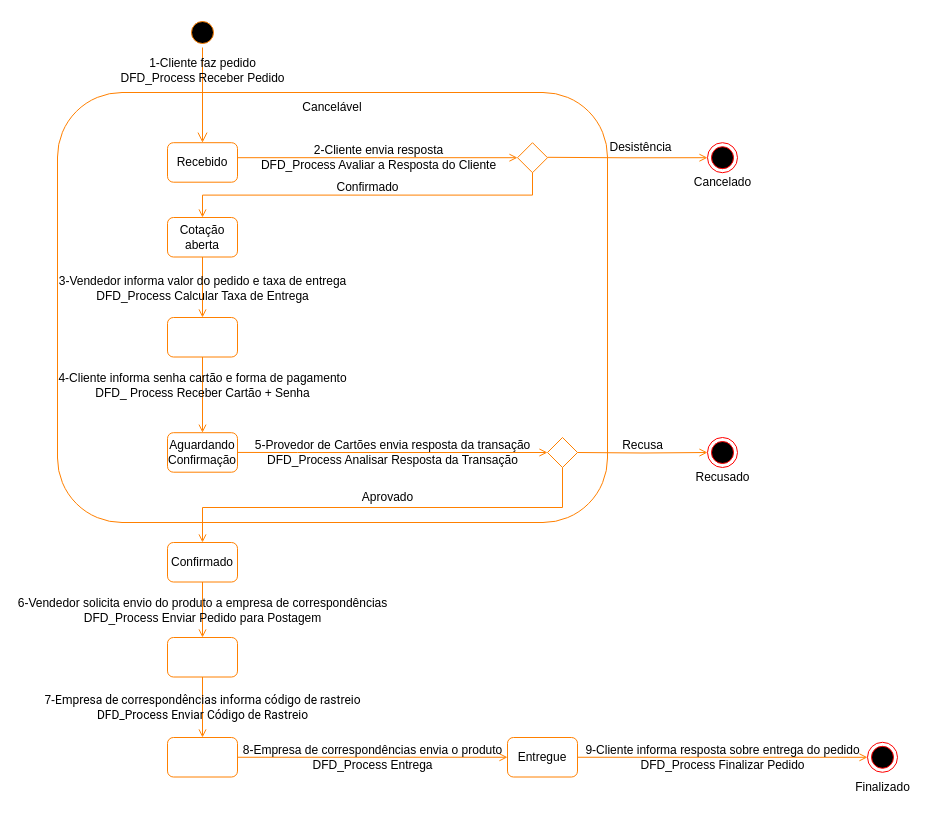
This 934x814 diagram has some shape labels left out. Here are the shapes that lost their labels. From the top down, the box of each, then its label:
(166, 316, 238, 357): Aguardando Pagamento
(166, 636, 238, 677): Em Andamento
(166, 736, 238, 777): A caminho
